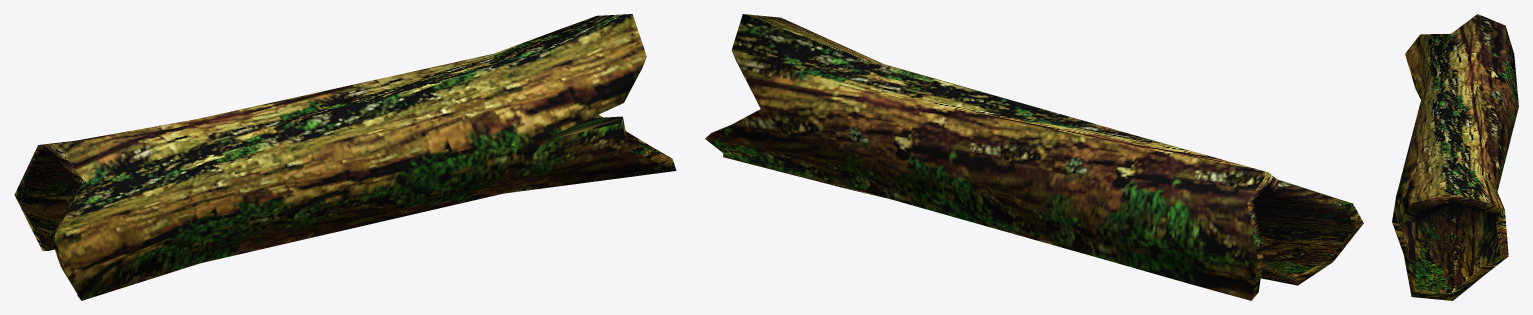
The model's file is LogPlatform.gltf.
3 renders of one model, left to right at view 1: azimuth 30°, elevation 25°; view 2: azimuth 150°, elevation 25°; view 3: azimuth 270°, elevation 25°, orthographic. The views are drawn at different scales.
Parts seen in each view (by area): view 1: LogPlatformMesh; view 2: LogPlatformMesh; view 3: LogPlatformMesh.
Part boxes in pixels (x1,y1,x2,y2): LogPlatformMesh: (14,14,676,300); LogPlatformMesh: (705,14,1363,300); LogPlatformMesh: (1392,14,1518,300).
Bounding box in the file's own units: 4.6 × 1.05 × 1.19.
1 material, 1 textured.
